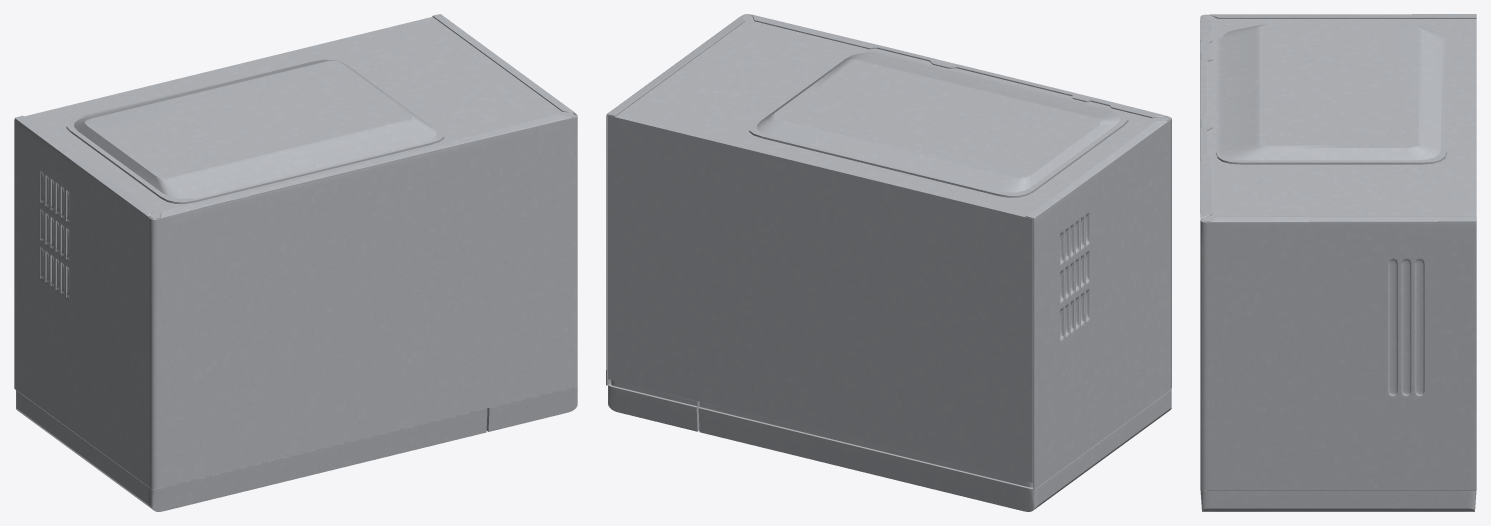
File: body001.obj
3 renders of one model, left to right at view 1: azimuth 30°, elevation 25°; view 2: azimuth 150°, elevation 25°; view 3: azimuth 270°, elevation 25°, orthographic.
Visible parts, largest first — view 1: Microwave045_Body001; view 2: Microwave045_Body001; view 3: Microwave045_Body001.
Part boxes in pixels (box(x1,y1,x2,y2)): Microwave045_Body001: box(14, 14, 577, 511); Microwave045_Body001: box(606, 14, 1171, 511); Microwave045_Body001: box(1200, 14, 1476, 511).
Size of the model in its own units: 0.489 by 0.3331 by 0.275.
1 material, 1 textured.
